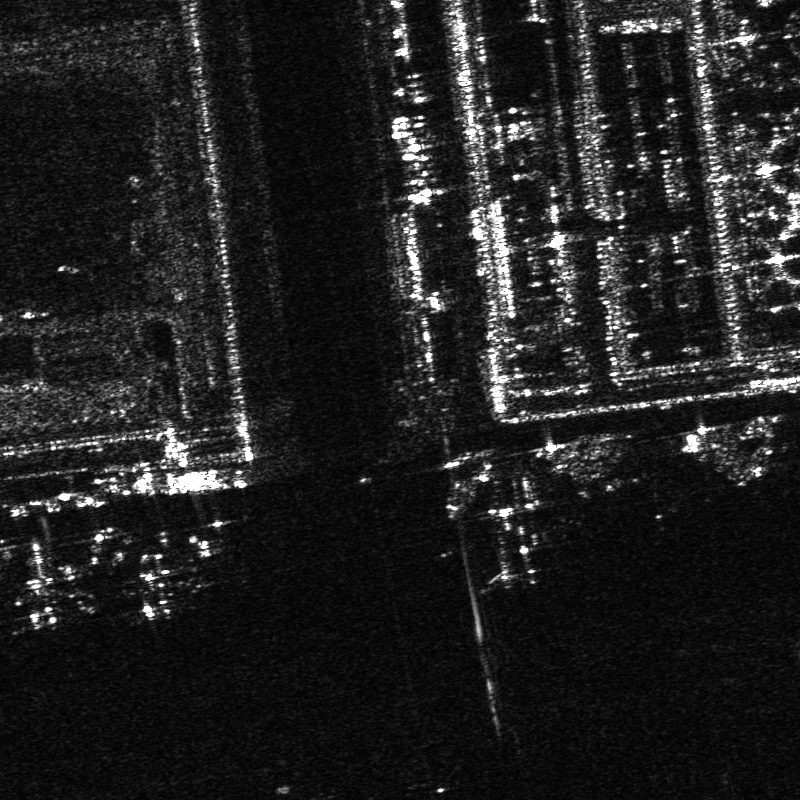Boeing787: (18, 543, 79, 629), (128, 538, 190, 621)
